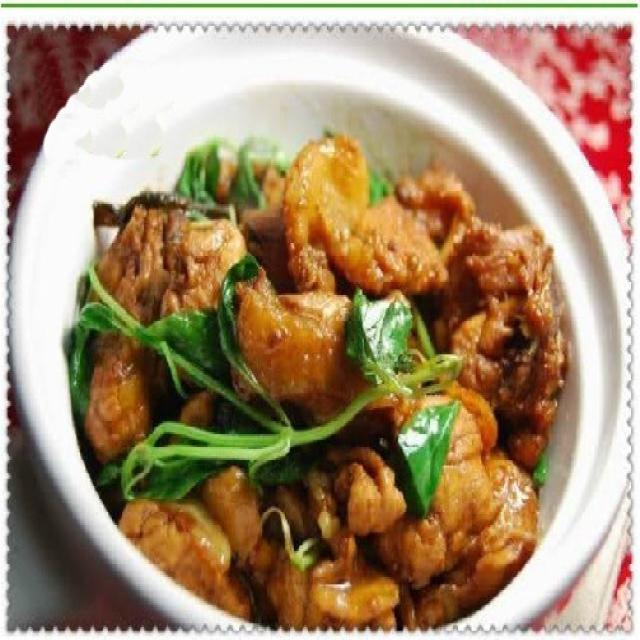鸡肉料理 含炸鸡: (28, 61, 625, 618)
